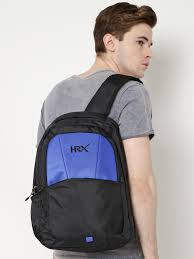backpack: (26, 71, 144, 252)
